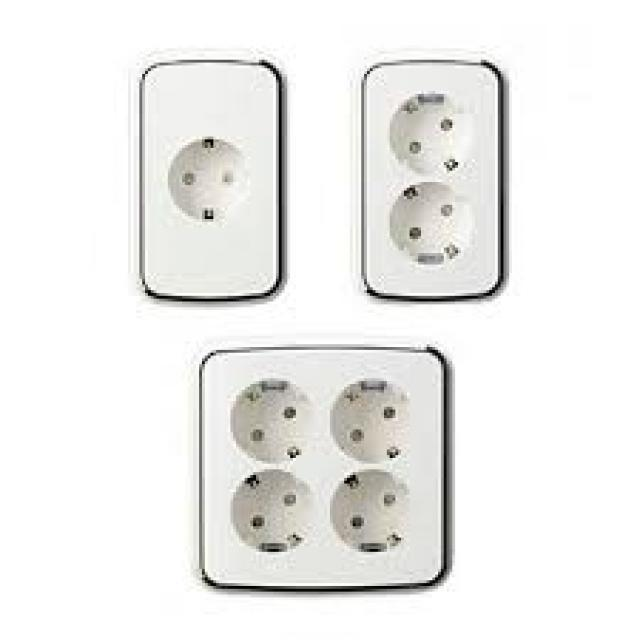typeb: (158, 324, 480, 617), (332, 28, 535, 312), (110, 39, 296, 317)
